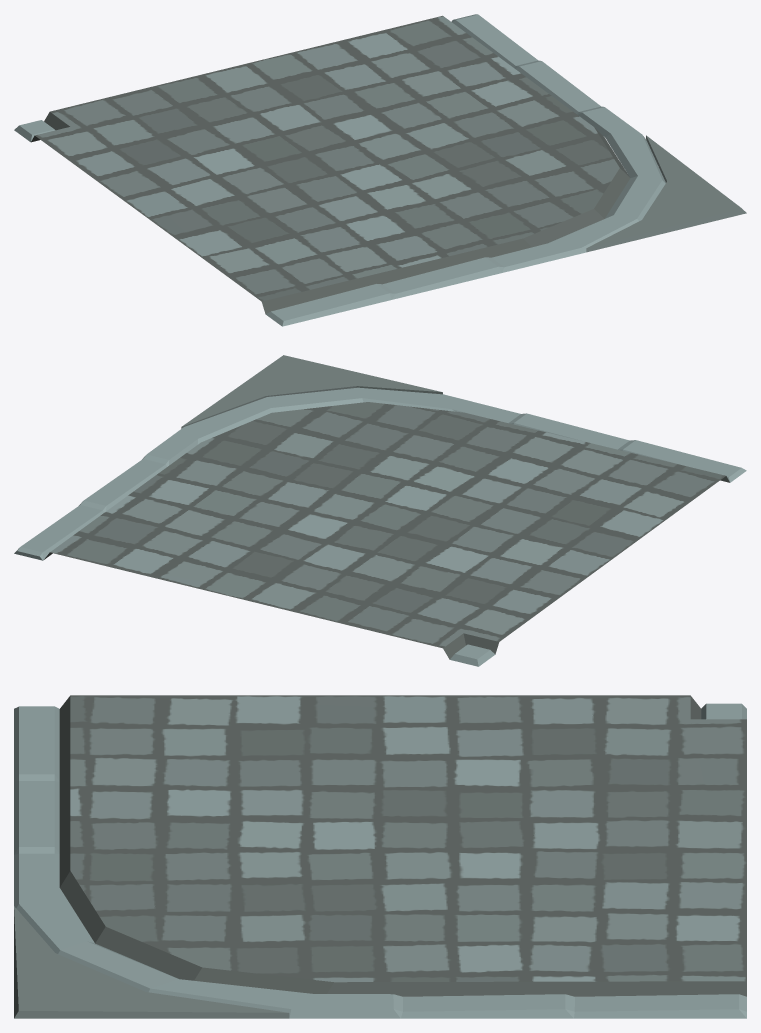
File: NS_Terrain_Walkway_Corner_Pit.fbx
3 views of the same model, one above another, from view 1: azimuth 30°, elevation 25°; view 2: azimuth 150°, elevation 25°; view 3: azimuth 270°, elevation 25° (orthographic). The views are drawn at different scales.
Parts seen in each view (by area): view 1: NS_Terrain_Walkway_Corner_Pit; view 2: NS_Terrain_Walkway_Corner_Pit; view 3: NS_Terrain_Walkway_Corner_Pit.
Boxes of the visible parts, x1,y1,x2,y2 form: NS_Terrain_Walkway_Corner_Pit: (14, 14, 746, 326); NS_Terrain_Walkway_Corner_Pit: (14, 355, 746, 666); NS_Terrain_Walkway_Corner_Pit: (14, 695, 746, 1018).
Bounding box in the file's own units: 400 × 8.18 × 400.
